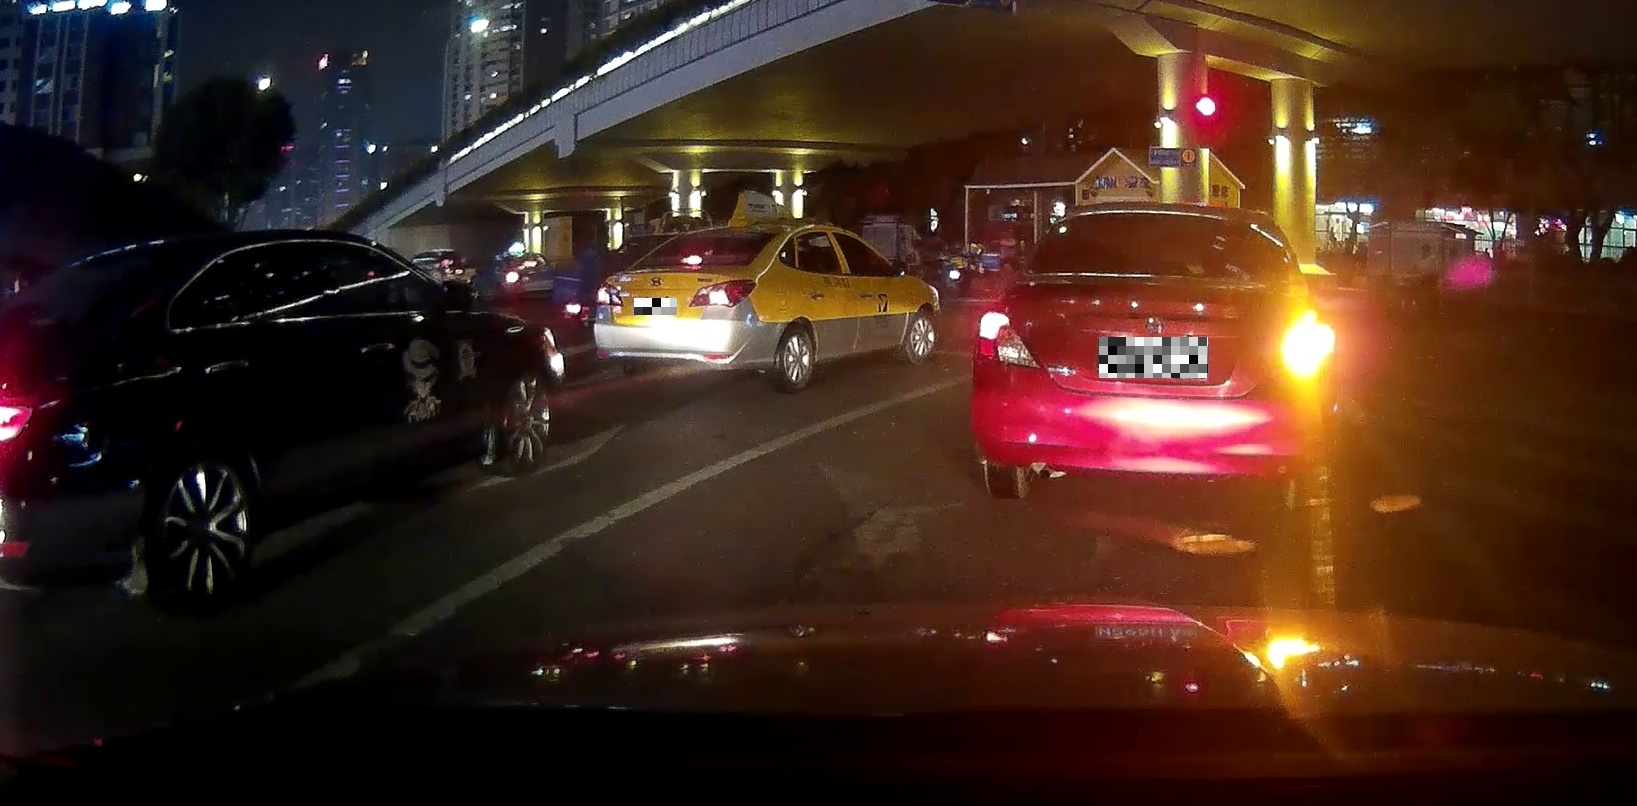L_light: (976, 310, 1042, 368), (596, 283, 623, 306)
R_light: (1263, 316, 1330, 381), (689, 279, 756, 308)
T_light: (1148, 212, 1184, 224), (679, 255, 702, 265)
night-brake: (592, 223, 780, 393)
night-right: (970, 200, 1333, 509)
plate_1: (634, 298, 677, 315)
plate_2: (1099, 337, 1208, 378)
